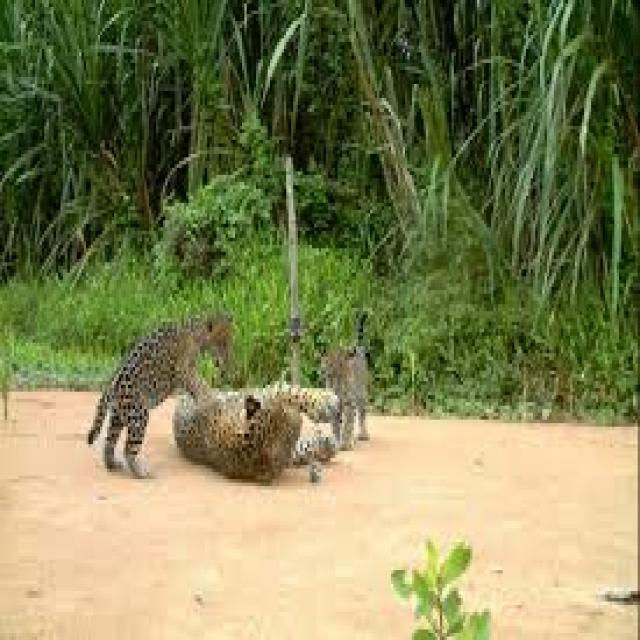Jaguar: (86, 315, 217, 458), (179, 381, 328, 479), (319, 339, 384, 448)
